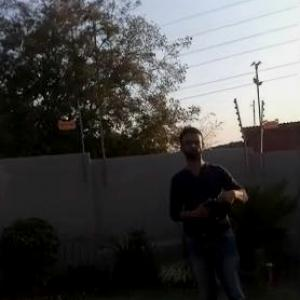follow: (164, 112, 261, 299)
